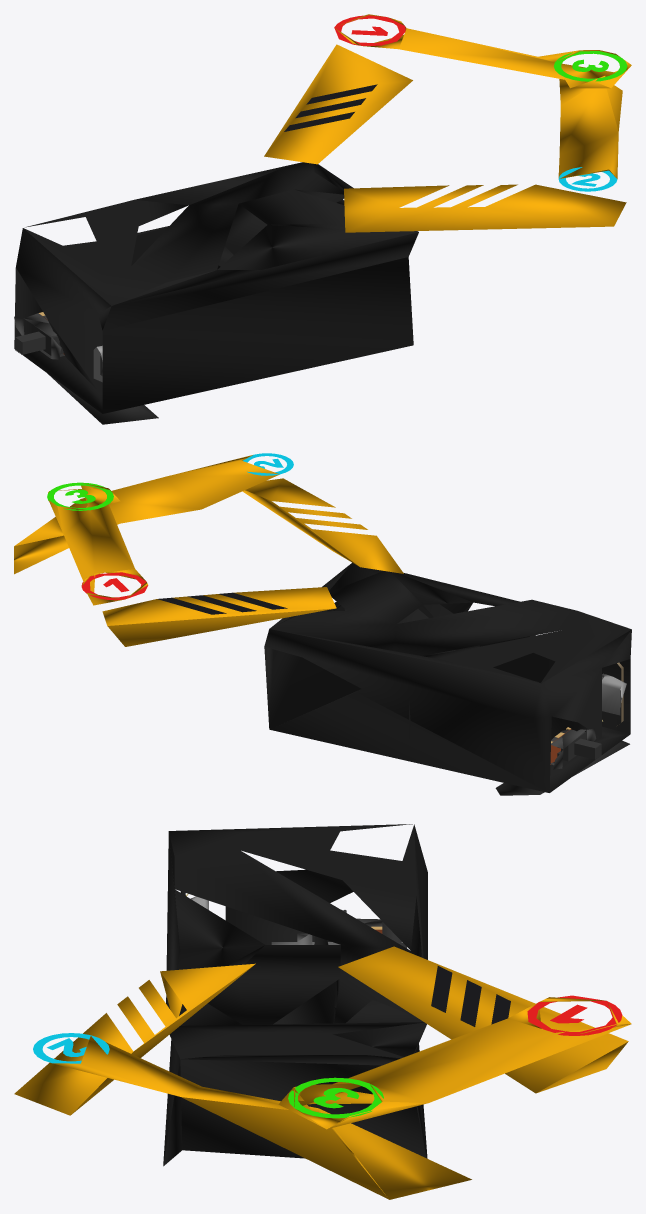
The model's file is model-lite.lod0.glb.
3 renders of one model, top to bottom at view 1: azimuth 30°, elevation 25°; view 2: azimuth 150°, elevation 25°; view 3: azimuth 270°, elevation 25°, orthographic. The views are drawn at different scales.
Visible parts, largest first — view 1: Body1, crank1, link2, Rubber Shoe, Body1:55, Body1:54, link1; view 2: Body1, crank1, link2, Body1:22, Body1:55, Body1:54, Rubber Shoe, link1; view 3: Body1, crank1, link2, link1.
Boxes of the visible parts, <box> form: Body1: <box>14,162,418,413</box>; crank1: <box>264,14,631,232</box>; link2: <box>334,15,627,81</box>; Rubber Shoe: <box>47,373,158,424</box>; Body1:55: <box>15,324,63,355</box>; Body1:54: <box>14,313,64,359</box>; link1: <box>558,167,617,191</box>; Body1: <box>264,562,631,792</box>; crank1: <box>14,455,403,646</box>; link2: <box>47,482,148,600</box>; Body1:22: <box>602,673,626,715</box>; Body1:55: <box>557,731,601,761</box>; Body1:54: <box>550,728,596,769</box>; Rubber Shoe: <box>495,740,629,795</box>; link1: <box>243,453,293,475</box>; Body1: <box>163,824,427,1166</box>; crank1: <box>14,946,631,1199</box>; link2: <box>288,995,622,1118</box>; link1: <box>33,1033,109,1063</box>.
Bounding box in the file's own units: 15.54 × 4.6 × 10.2.
